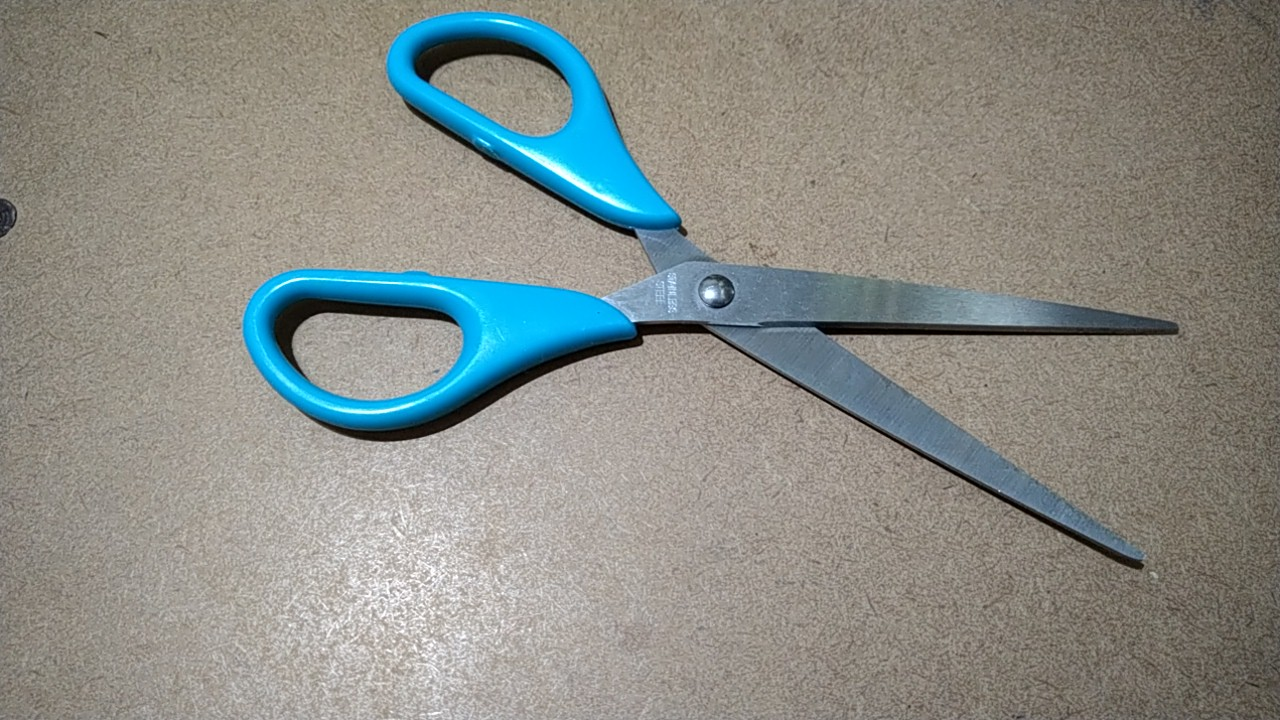scissor: (222, 3, 1193, 591)
